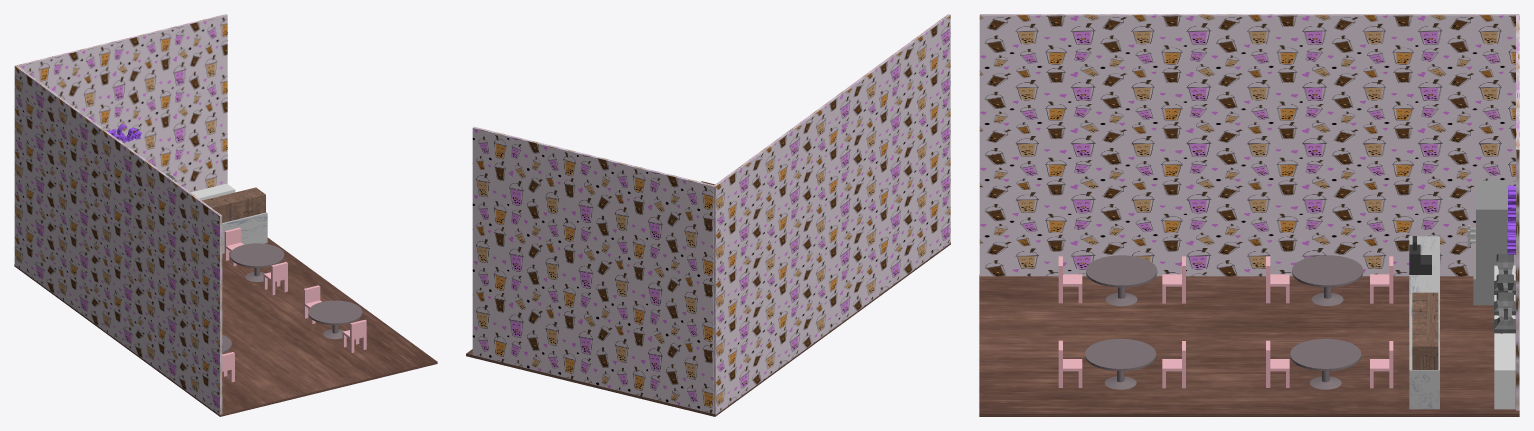
Rendered from hobaboba.fbx.
3 renders of one model, left to right at view 1: azimuth 30°, elevation 25°; view 2: azimuth 150°, elevation 25°; view 3: azimuth 270°, elevation 25°, orthographic. The views are drawn at different scales.
Parts seen in each view (by area): view 1: WallLeft, WallRight, Cube, Cupboard, Table4, Table2, Counter, Chair4, Chair8, Chair3, Chair7, Counter2; view 2: WallRight, WallLeft, Cube; view 3: WallLeft, Cube, Fridge, Counter, Table3, Table4, Table1, Table2, Cupboard, Counter2, WallRight, Blender3 (+10 smaller).
Boxes of the visible parts, box(x1,y1,x2,y2) form: WallLeft: box(14, 65, 222, 414); WallRight: box(16, 14, 227, 192); Cube: box(14, 238, 437, 416); Cupboard: box(202, 187, 265, 222); Table4: box(308, 300, 362, 339); Table2: box(230, 243, 284, 281); Counter: box(222, 212, 267, 253); Chair4: box(263, 262, 287, 295); Chair8: box(342, 320, 366, 352); Chair3: box(224, 227, 243, 266); Chair7: box(303, 285, 321, 323); Counter2: box(191, 183, 235, 200); WallRight: box(472, 126, 714, 413); WallLeft: box(714, 14, 950, 414); Cube: box(466, 181, 950, 416); WallLeft: box(979, 14, 1518, 276); Cube: box(979, 275, 1519, 416); Fridge: box(1473, 180, 1513, 305); Counter: box(1409, 236, 1439, 409); Table3: box(1086, 255, 1157, 306); Table4: box(1085, 338, 1156, 389); Table1: box(1292, 255, 1363, 305); Table2: box(1290, 338, 1361, 389); Cupboard: box(1412, 292, 1438, 369); Counter2: box(1494, 265, 1515, 409); WallRight: box(1516, 14, 1519, 410); Blender3: box(1494, 292, 1515, 333).
Bounding box in the file's own units: 3654 × 3224 × 5988.
Materials: 13 (4 with a texture image).
